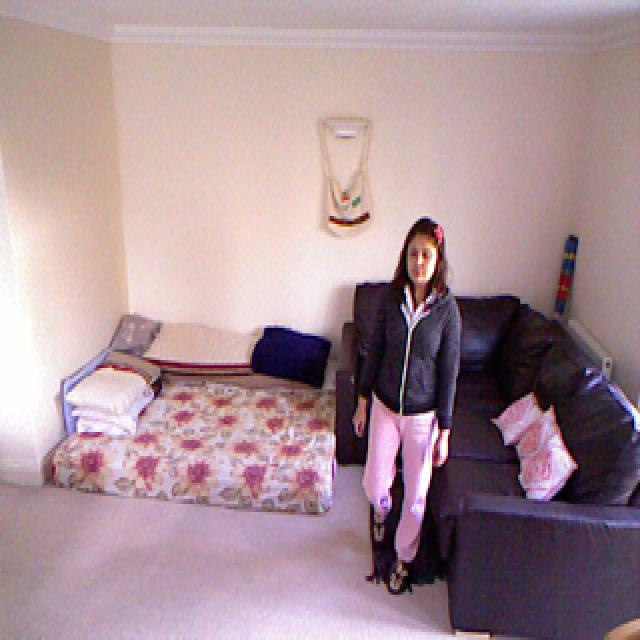standing: (351, 215, 463, 602)
